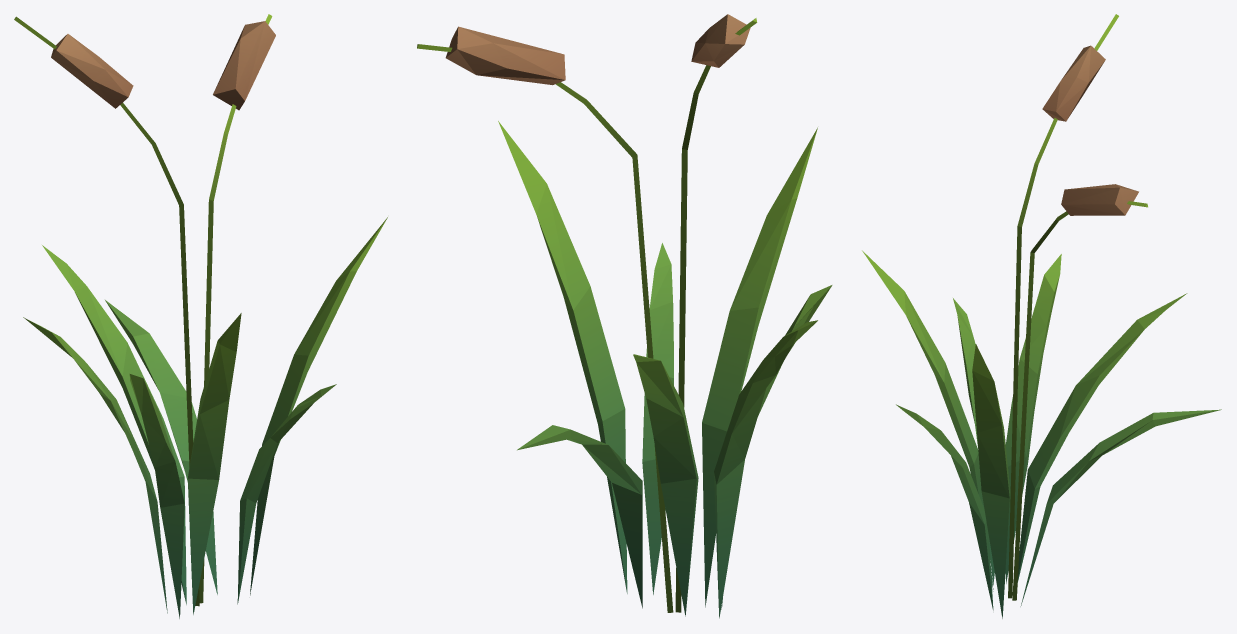
File: ZLP_Grass_B_2.FBX
3 renders of one model, left to right at view 1: azimuth 30°, elevation 25°; view 2: azimuth 150°, elevation 25°; view 3: azimuth 270°, elevation 25°, orthographic. The views are drawn at different scales.
Visible parts, largest first — view 1: ZLP_Grass_B_2; view 2: ZLP_Grass_B_2; view 3: ZLP_Grass_B_2.
Boxes of the visible parts, x1,y1,x2,y2 form: ZLP_Grass_B_2: [14, 14, 387, 618]; ZLP_Grass_B_2: [417, 14, 832, 618]; ZLP_Grass_B_2: [862, 14, 1221, 618].
Bounding box in the file's own units: 114 × 197 × 122.
